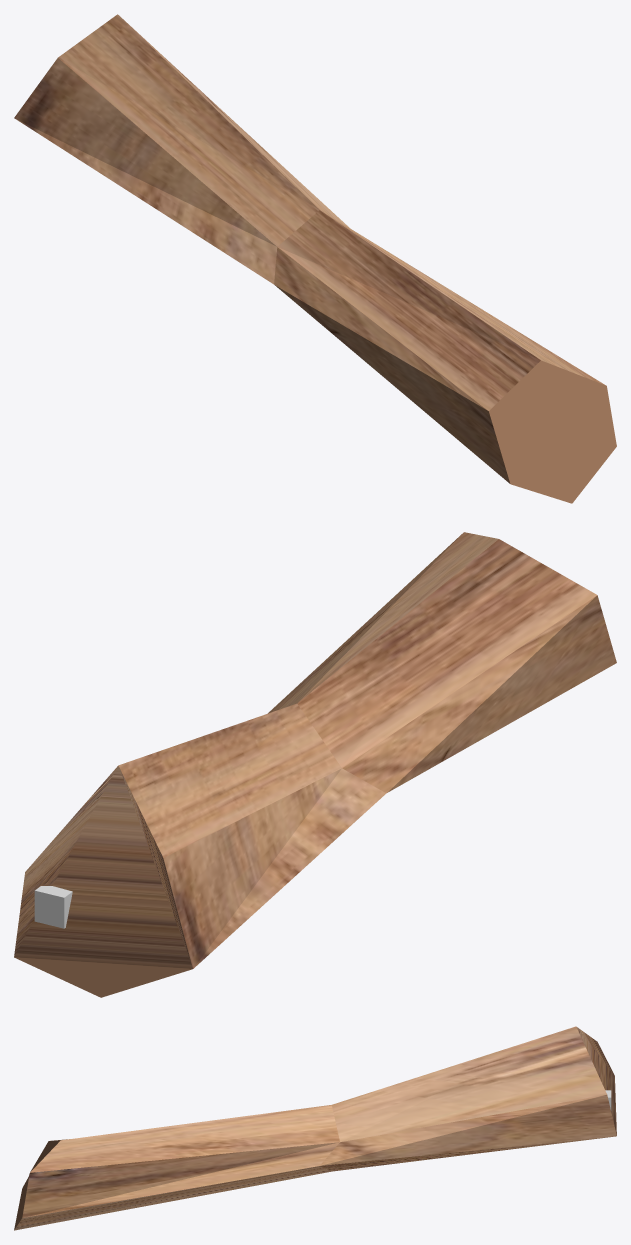
File: right_arm.gltf
3 renders of one model, top to bottom at view 1: azimuth 30°, elevation 25°; view 2: azimuth 150°, elevation 25°; view 3: azimuth 270°, elevation 25°, orthographic. The views are drawn at different scales.
Visible parts, largest first — view 1: Cylinder.002_Brown_0.002; view 2: Cylinder.002_Brown_0.002, Cube; view 3: Cylinder.002_Brown_0.002.
Boxes of the visible parts, x1=… form: Cylinder.002_Brown_0.002: x1=14, y1=14, x2=616, y2=503; Cylinder.002_Brown_0.002: x1=14, y1=532, x2=616, y2=997; Cube: x1=34, y1=886, x2=72, y2=928; Cylinder.002_Brown_0.002: x1=14, y1=1026, x2=616, y2=1230.
Bounding box in the file's own units: 20.12 × 21.72 × 67.7.
2 materials, 1 textured.
